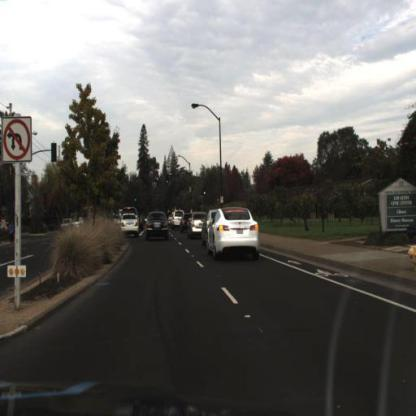car: (209, 209, 262, 256), (201, 209, 219, 250), (202, 209, 220, 245), (147, 213, 169, 242), (187, 211, 209, 239), (191, 212, 206, 238), (172, 210, 188, 231), (180, 211, 192, 235), (118, 206, 139, 219), (123, 216, 137, 234), (173, 210, 183, 231)
pedestrian: (10, 220, 16, 245)
